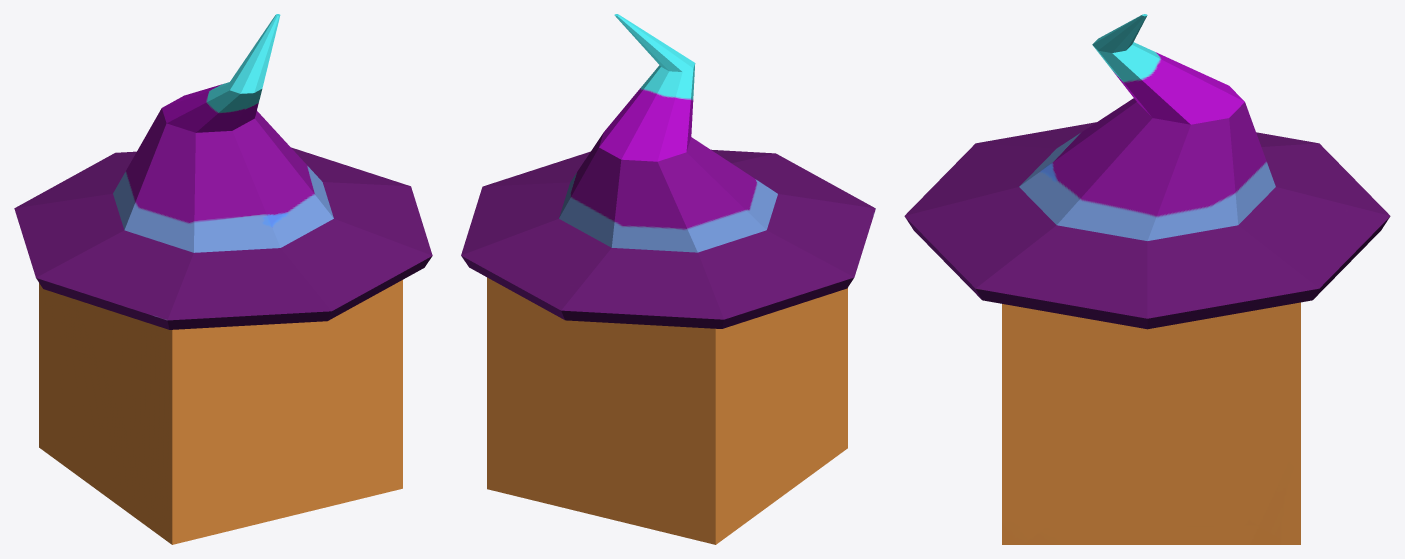
File: Player.fbx
3 views of the same model, side by side, from view 1: azimuth 30°, elevation 25°; view 2: azimuth 150°, elevation 25°; view 3: azimuth 270°, elevation 25° (orthographic). The views are drawn at different scales.
Visible parts, largest first — view 1: Cylinder; view 2: Cylinder; view 3: Cylinder.
Part boxes in pixels (x1,y1,x2,y2): Cylinder: (14,14,432,544); Cylinder: (461,14,875,544); Cylinder: (904,14,1390,544).
Bounding box in the file's own units: 325 × 366 × 325.
1 material, 1 textured.
